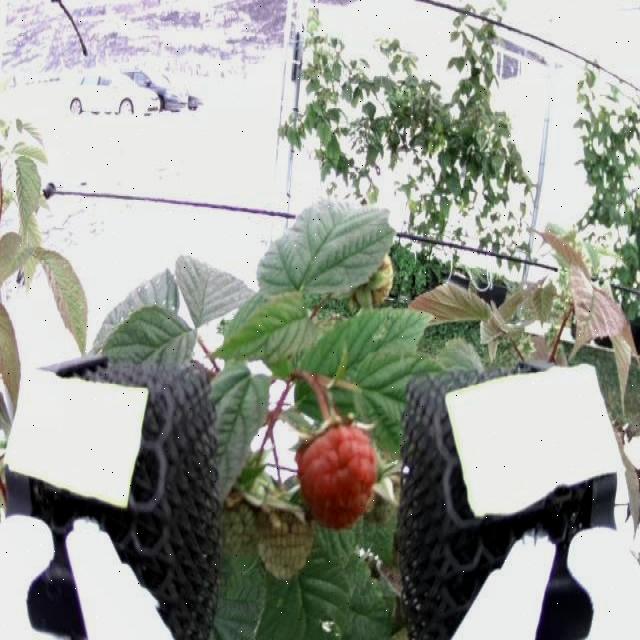Riped berries: (294, 420, 379, 529)
